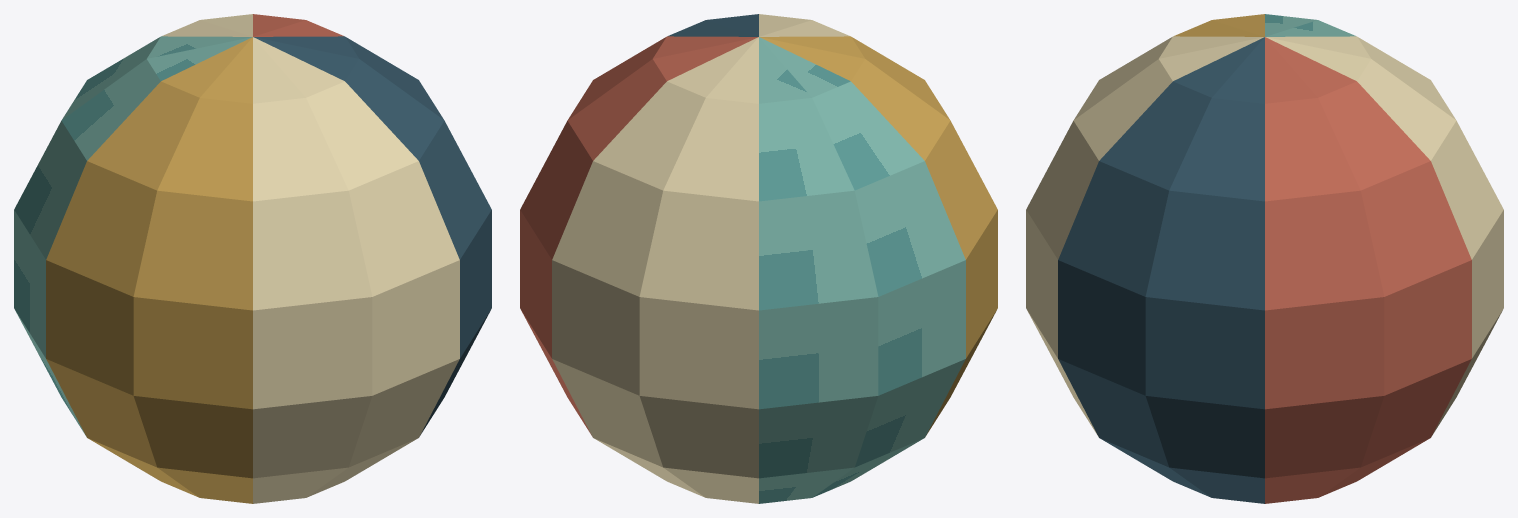
The model's file is ball-beach.glb.
3 renders of one model, left to right at view 1: azimuth 30°, elevation 25°; view 2: azimuth 150°, elevation 25°; view 3: azimuth 270°, elevation 25°, orthographic.
Parts seen in each view (by area): view 1: ball-beach; view 2: ball-beach; view 3: ball-beach.
Boxes of the visible parts, x1,y1,x2,y2 form: ball-beach: (14,14,491,503); ball-beach: (520,14,997,503); ball-beach: (1026,14,1503,503).
Bounding box in the file's own units: 0.4972 × 0.51 × 0.4972.
Materials: 1 (1 with a texture image).
